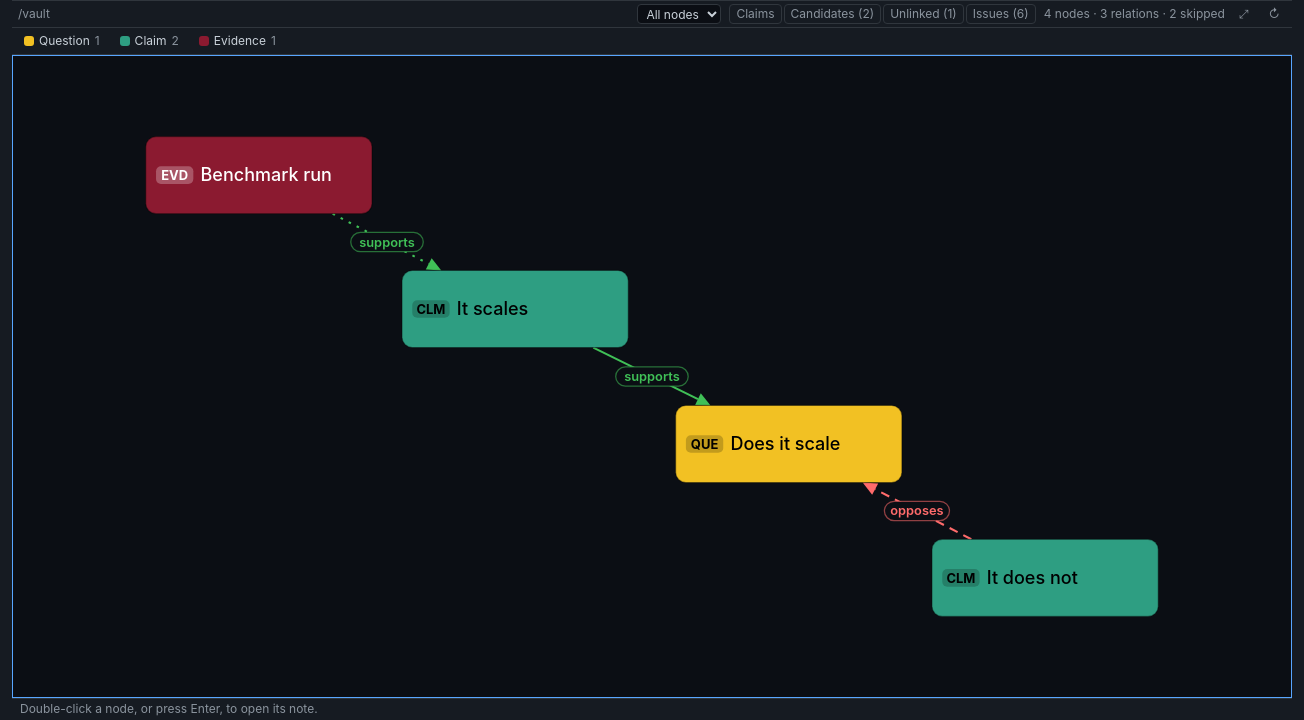
Test: switching view › shows a canvas with its own boxes and arrows, and remembers the choice
Select "Overview" in the dropdown named "View" at (679, 14), box [637,4,721,24]
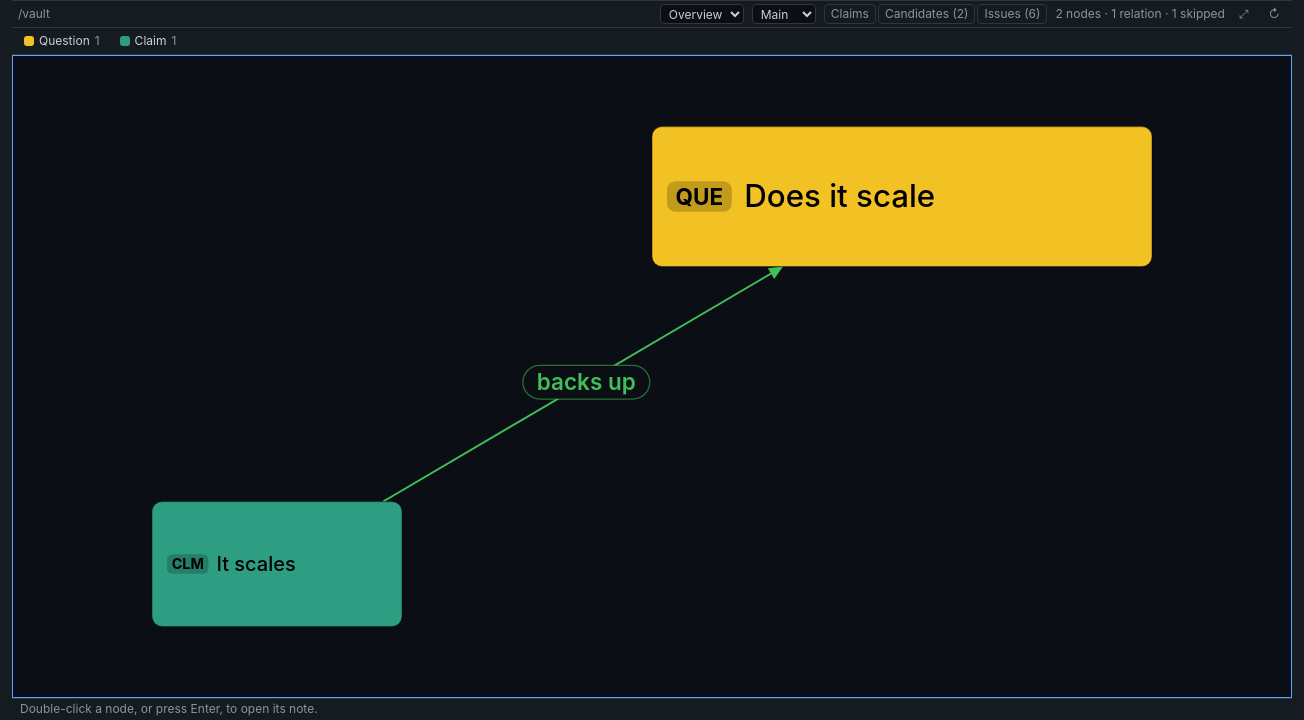
Expected: the text "backs up" is shown, [537,368,636,395]
Expected: the text "2 nodes · 1 relation · 1 skipped" is shown, [1055,6,1225,22]
